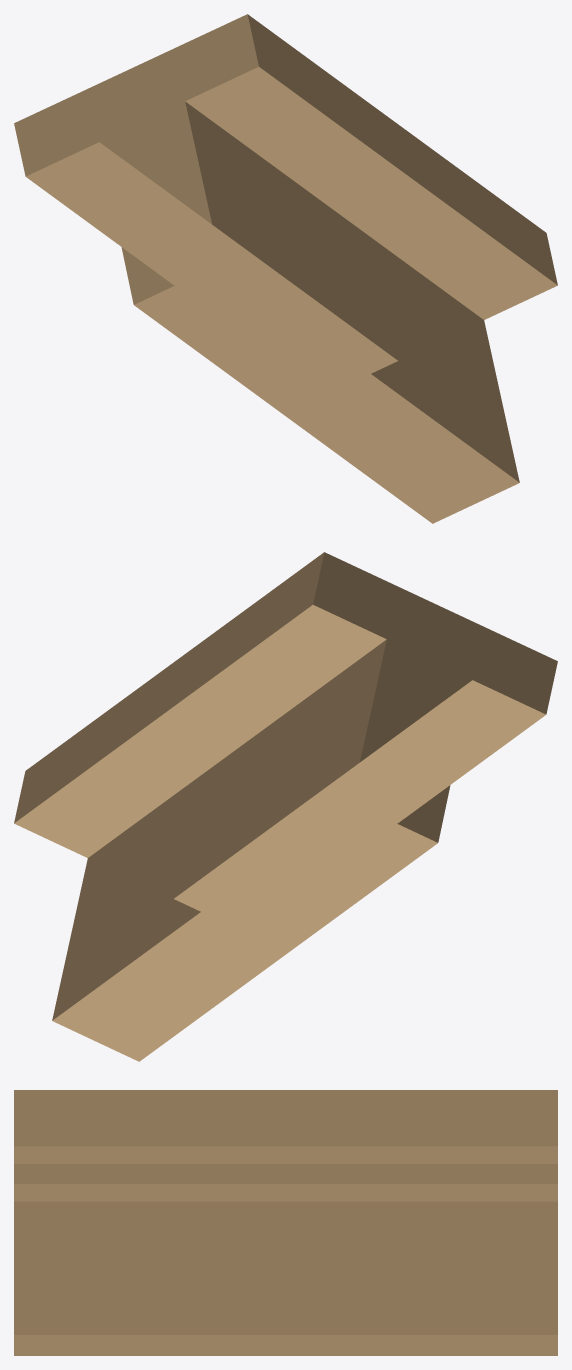
3 views of the same model, one above another, from view 1: azimuth 30°, elevation 25°; view 2: azimuth 150°, elevation 25°; view 3: azimuth 270°, elevation 25° (orthographic). The views are drawn at different scales.
Parts seen in each view (by area): view 1: 0_1_1_3_3_0_0_0_3_3; view 2: 0_1_1_3_3_0_0_0_3_3; view 3: 0_1_1_3_3_0_0_0_3_3.
Part boxes in pixels (left/top/right/bottom): 0_1_1_3_3_0_0_0_3_3: left=14, top=14, right=557, bottom=523; 0_1_1_3_3_0_0_0_3_3: left=14, top=552, right=557, bottom=1061; 0_1_1_3_3_0_0_0_3_3: left=14, top=1090, right=557, bottom=1355.
Size of the model in its own units: 11.35 by 11.65 by 24.
